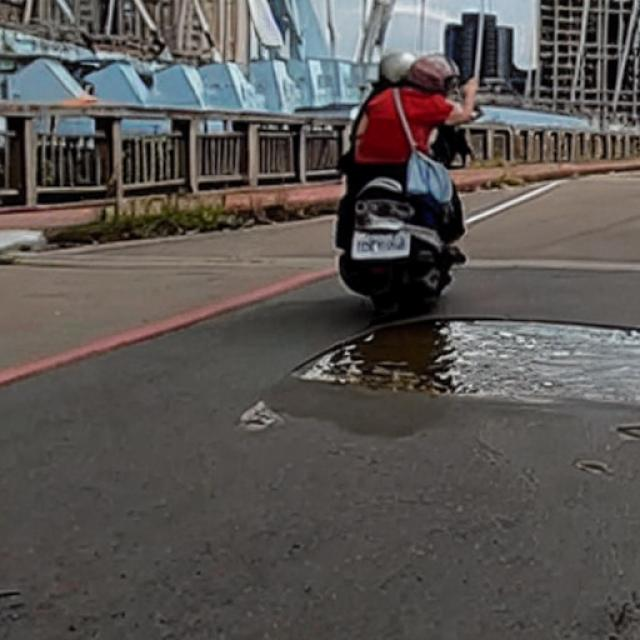puddle: (295, 320, 640, 411)
